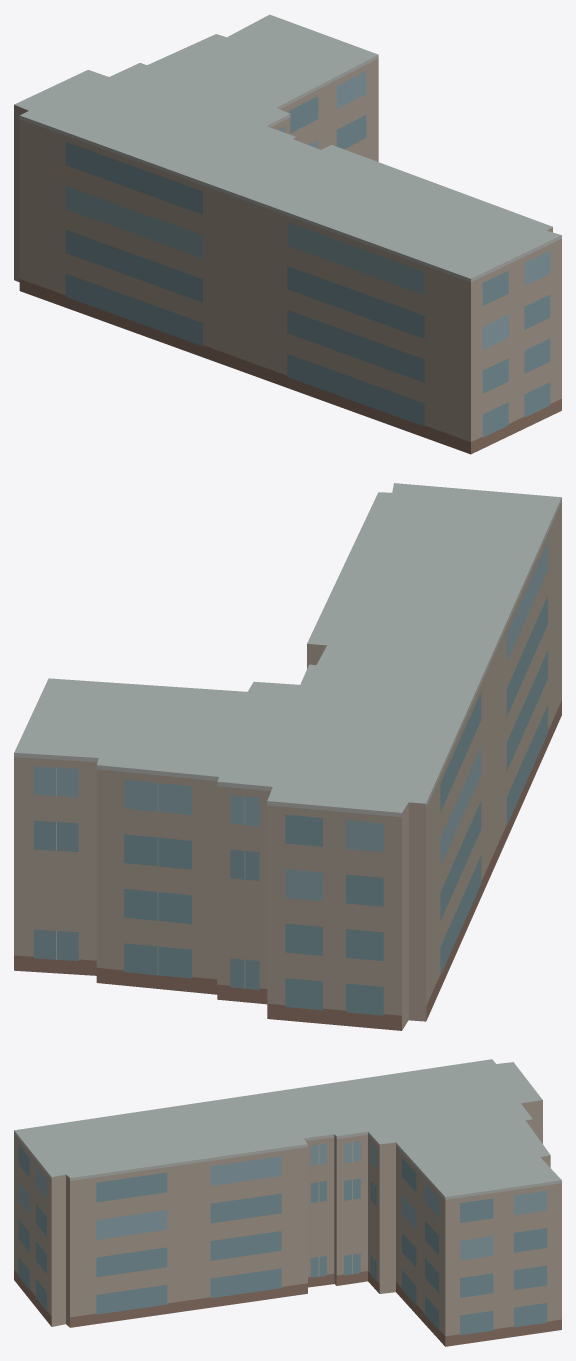
The model's file is survey-upis-32457616.glb.
3 renders of one model, top to bottom at view 1: azimuth 30°, elevation 25°; view 2: azimuth 150°, elevation 25°; view 3: azimuth 270°, elevation 25°, orthographic. The views are drawn at different scales.
Visible parts, largest first — view 1: survey-upis-32457616.tmp; view 2: survey-upis-32457616.tmp; view 3: survey-upis-32457616.tmp.
Part boxes in pixels (bbox=[...]): survey-upis-32457616.tmp: bbox=[14, 14, 561, 454]; survey-upis-32457616.tmp: bbox=[14, 483, 561, 1030]; survey-upis-32457616.tmp: bbox=[14, 1059, 561, 1346].
Size of the model in its own units: 24.42 by 12.35 by 40.97.
